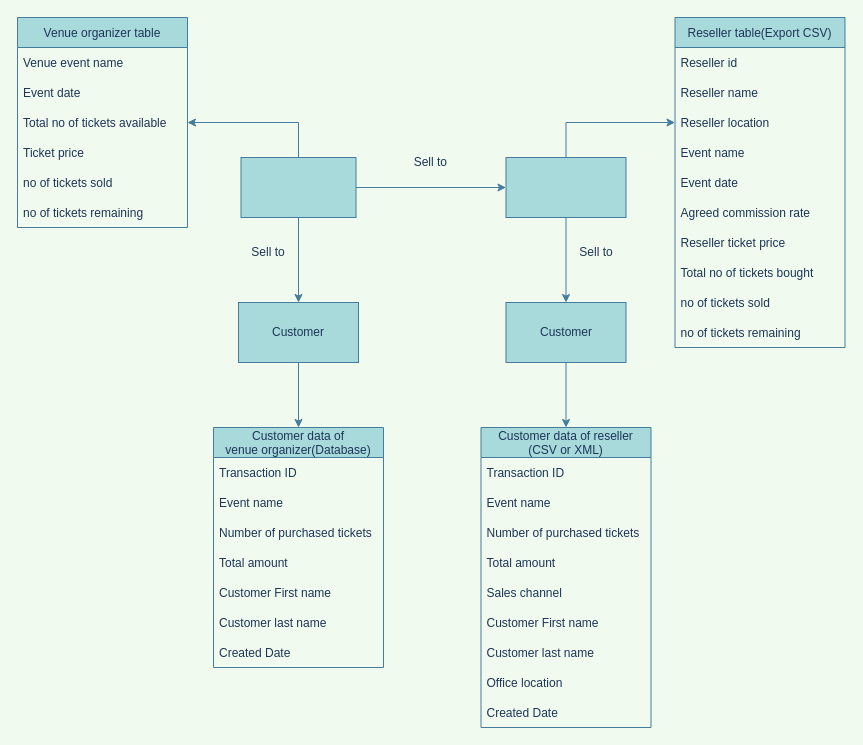
Some shapes in this 863 by 745 pixel diagram are drawn without their labels. Each missing label, with the centre of its shape:
Reseller: point (565, 187)
Venue Organizer: point (298, 187)
